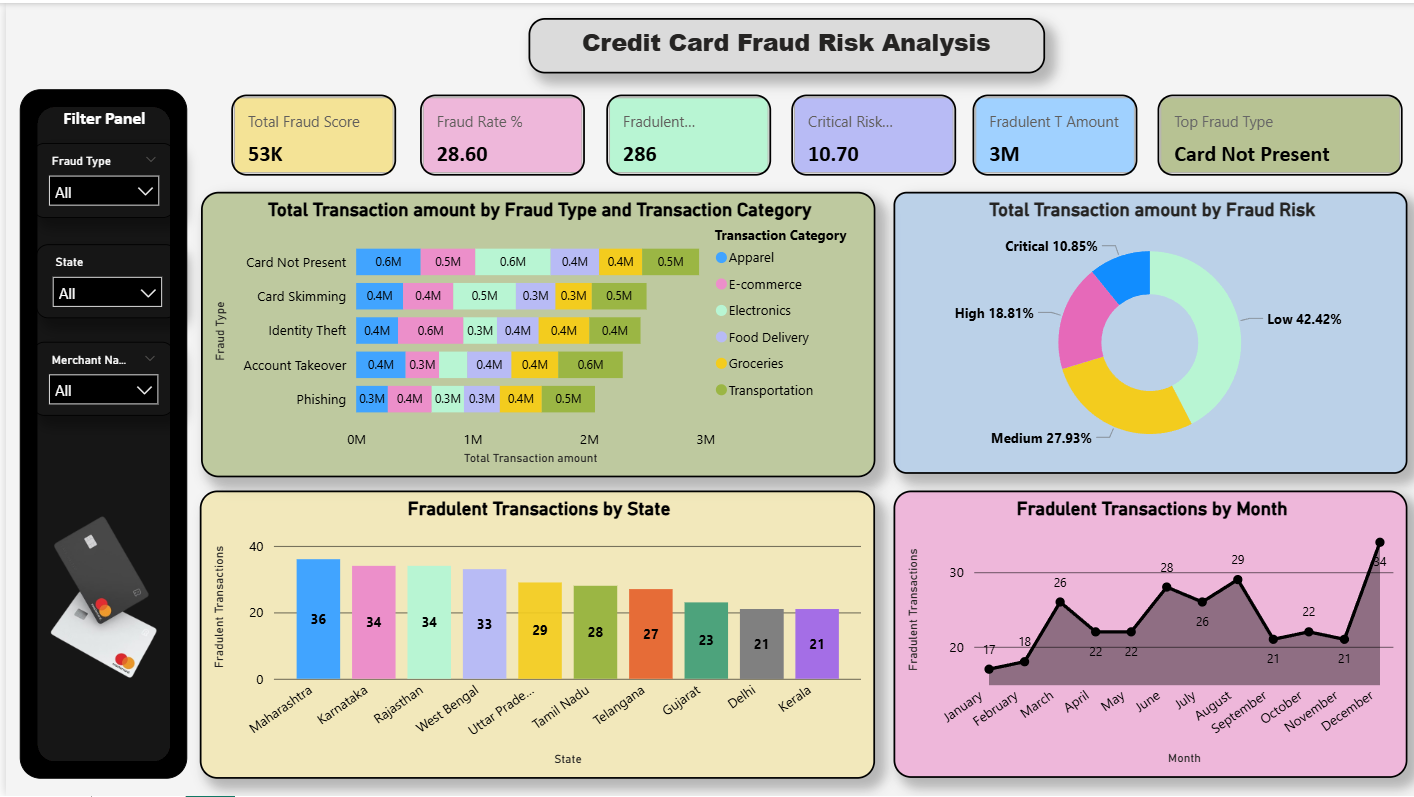

This screenshot's page, from the dashboard's own definition file:
{"tool":"powerbi","page":{"name":"Page 1","canvas":[1280,720],"ordinal":0},"visuals":[{"type":"textbox","box":[474.4,14,468.6,50],"z":0},{"type":"shape","box":[12.8,77.9,152.3,625.6],"z":1000},{"type":"textbox","box":[37.2,89.5,103.5,38.4],"z":2000},{"type":"barChart","fields":{"Y":["Credit Card Fraud Risk Analysis.Total Transaction amount"],"Category":["Credit Card Fraud Risk Analysis.Fraud Type"],"Series":["Credit Card Fraud Risk Analysis.Transaction Category"]},"box":[176.7,170.9,611.6,259.3],"z":3000},{"type":"donutChart","fields":{"Y":["Credit Card Fraud Risk Analysis.Total Transaction amount"],"Category":["Credit Card Fraud Risk Analysis.Fraud Risk"]},"box":[805.8,170.9,466.3,255.8],"z":4000},{"type":"columnChart","fields":{"Y":["Credit Card Fraud Risk Analysis.Fradulent Transactions"],"Category":["Credit Card Fraud Risk Analysis.State"]},"box":[175.6,441.9,612.8,261.6],"z":5000},{"type":"lineChart","fields":{"Category":["Credit Card Fraud Risk Analysis.Transaction Date.Variation.Date Hierarchy.Month","Credit Card Fraud Risk Analysis.Transaction Date.Variation.Date Hierarchy.Day"],"Y":["Credit Card Fraud Risk Analysis.Fradulent Transactions"]},"box":[805.8,441.9,466.3,260.5],"z":6000},{"type":"slicer","fields":{"Values":["Credit Card Fraud Risk Analysis.Fraud Type"]},"box":[24,127.4,129.9,68.1],"z":7000},{"type":"slicer","fields":{"Values":["Credit Card Fraud Risk Analysis.State"]},"box":[26.7,218.6,129.1,67.4],"z":8000},{"type":"slicer","fields":{"Values":["Credit Card Fraud Risk Analysis.Merchant Name"]},"box":[23.3,307,129.1,67.4],"z":9000},{"type":"image","box":[1.2,374.4,175.6,329.1],"z":10000},{"type":"cardVisual","fields":{"Data":["Credit Card Fraud Risk Analysis.Fraud Rate %"]},"box":[370.9,77.9,159.3,83.7],"z":11000},{"type":"cardVisual","fields":{"Data":["Credit Card Fraud Risk Analysis.Fradulent Transactions"]},"box":[539.5,77.9,159.3,83.7],"z":12000},{"type":"cardVisual","fields":{"Data":["Credit Card Fraud Risk Analysis.Critical Risk Transaction"]},"box":[708.1,77.9,159.3,83.7],"z":13000},{"type":"cardVisual","fields":{"Data":["Credit Card Fraud Risk Analysis.Fradulent Transaction Amount"]},"box":[872.1,77.9,159.3,83.7],"z":14000},{"type":"cardVisual","fields":{"Data":["Credit Card Fraud Risk Analysis.Top Fraud Type"]},"box":[1039.5,77.9,232.6,83.7],"z":15000},{"type":"cardVisual","fields":{"Data":["Sum(Credit Card Fraud Risk Analysis.Fraud Score)"]},"box":[200,77.9,159.3,83.7],"z":15001}]}

Visuals, with their boxes in screenshot pixels (x1, y1, x2, y2), scaled from the page's 1280x720 canvas onto the 1414x797 screenshot:
textbox: l=524, t=15, r=1042, b=71
shape: l=14, t=86, r=182, b=779
textbox: l=41, t=99, r=155, b=142
barChart - Credit Card Fraud Risk Analysis.Total Transaction amount x Credit Card Fraud Risk Analysis.Fraud Type: l=195, t=189, r=871, b=476
donutChart - Credit Card Fraud Risk Analysis.Total Transaction amount x Credit Card Fraud Risk Analysis.Fraud Risk: l=890, t=189, r=1405, b=472
columnChart - Credit Card Fraud Risk Analysis.Fradulent Transactions x Credit Card Fraud Risk Analysis.State: l=194, t=489, r=871, b=779
lineChart - Credit Card Fraud Risk Analysis.Transaction Date.Variation.Date Hierarchy.Month x Credit Card Fraud Risk Analysis.Transaction Date.Variation.Date Hierarchy.Day: l=890, t=489, r=1405, b=778
slicer - Credit Card Fraud Risk Analysis.Fraud Type: l=27, t=141, r=170, b=216
slicer - Credit Card Fraud Risk Analysis.State: l=29, t=242, r=172, b=317
slicer - Credit Card Fraud Risk Analysis.Merchant Name: l=26, t=340, r=168, b=414
image: l=1, t=414, r=195, b=779
cardVisual - Credit Card Fraud Risk Analysis.Fraud Rate %: l=410, t=86, r=586, b=179
cardVisual - Credit Card Fraud Risk Analysis.Fradulent Transactions: l=596, t=86, r=772, b=179
cardVisual - Credit Card Fraud Risk Analysis.Critical Risk Transaction: l=782, t=86, r=958, b=179
cardVisual - Credit Card Fraud Risk Analysis.Fradulent Transaction Amount: l=963, t=86, r=1139, b=179
cardVisual - Credit Card Fraud Risk Analysis.Top Fraud Type: l=1148, t=86, r=1405, b=179
cardVisual - Sum(Credit Card Fraud Risk Analysis.Fraud Score): l=221, t=86, r=397, b=179
